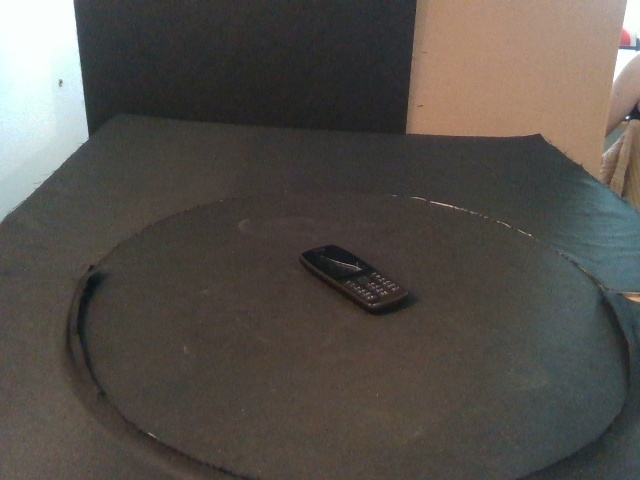phone: (298, 243, 410, 316)
